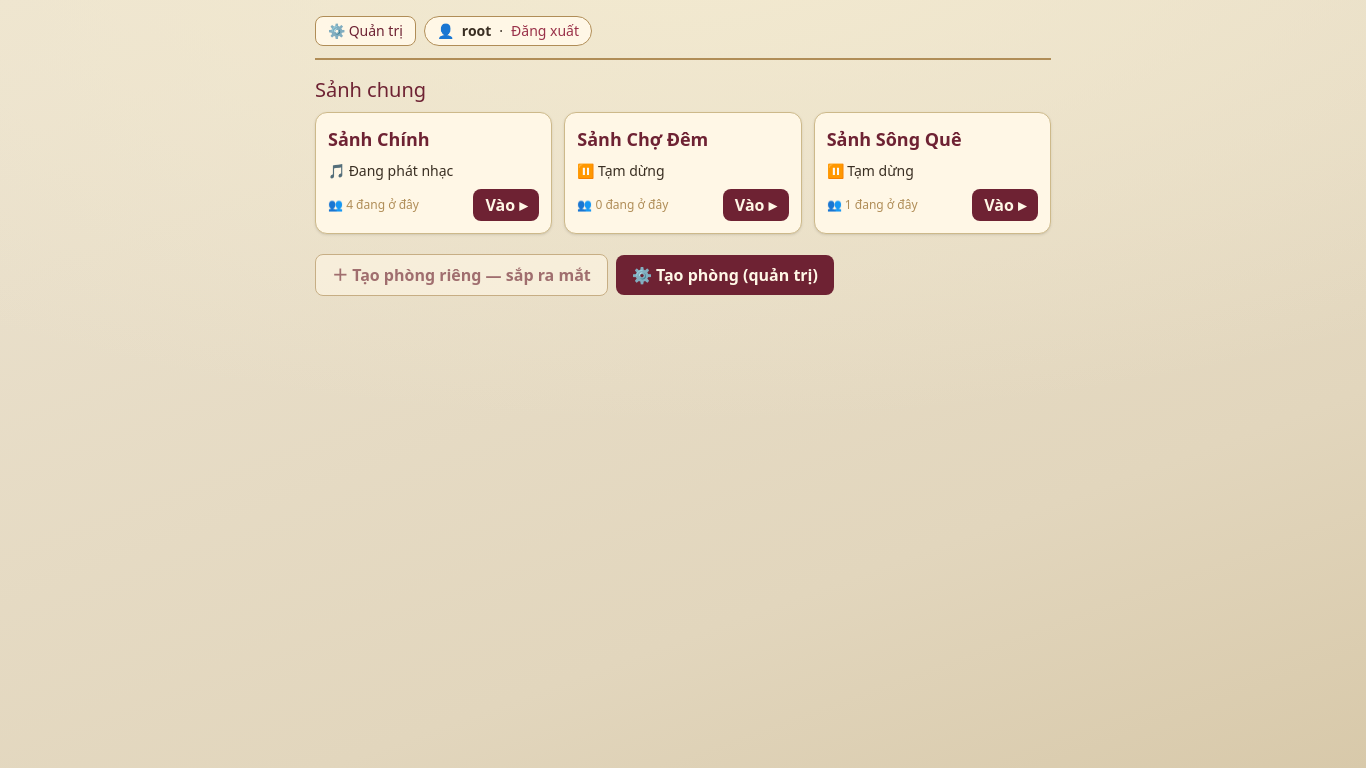
public rooms (0093) › root keeps the admin create path
Click the button "⚙️ Tạo phòng (quản trị)": (725, 275) [616,255,834,295]
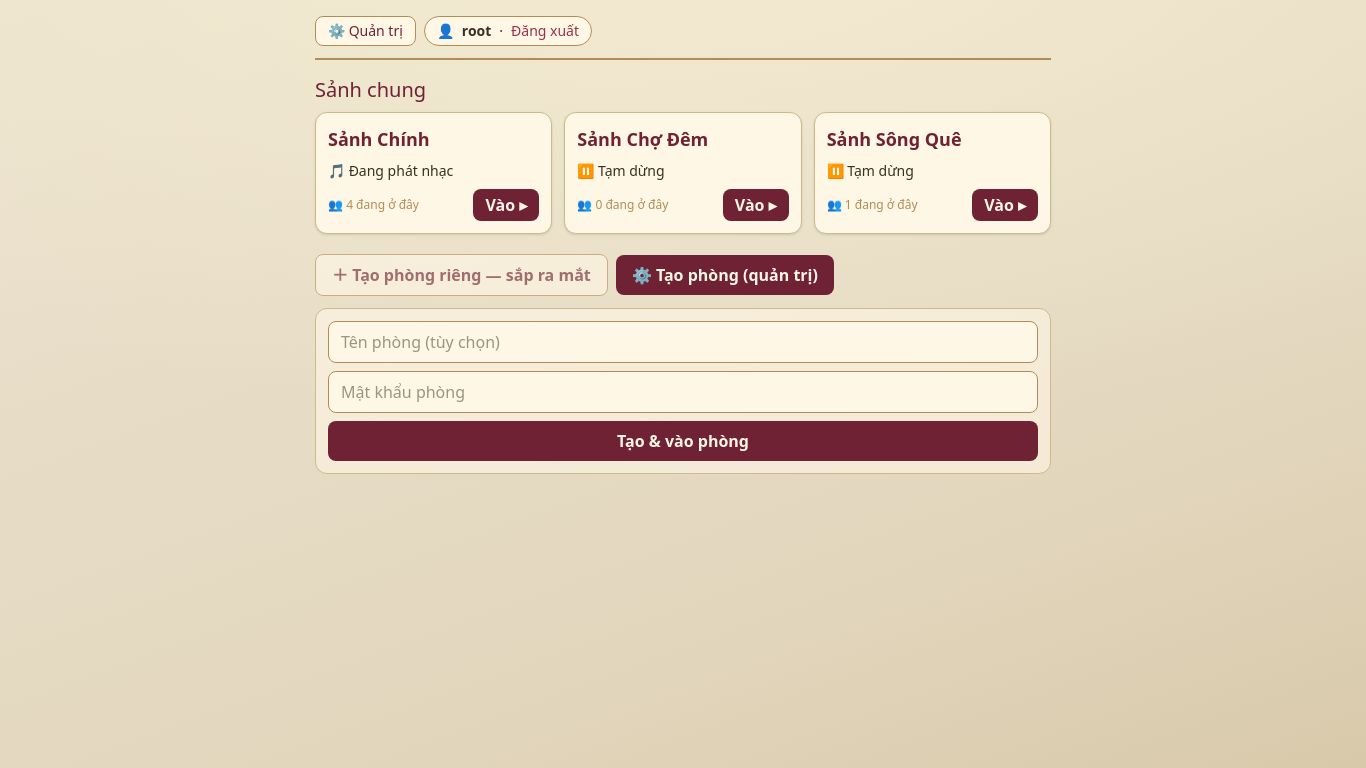
Now the password field with placeholder "Mật khẩu phòng" is shown, box [328,371,1038,413]
